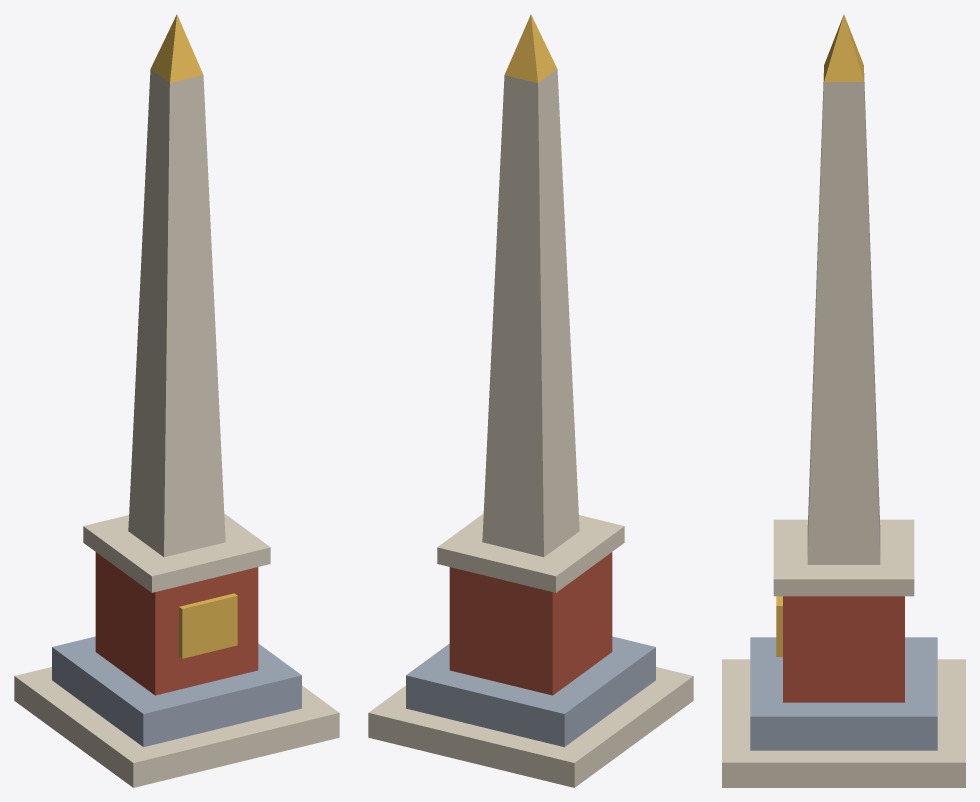
The model's file is prop_obelisk.glb.
The picture shows the model from 3 angles, left to right: view 1: azimuth 30°, elevation 25°; view 2: azimuth 150°, elevation 25°; view 3: azimuth 270°, elevation 25°; orthographic projection. The views are drawn at different scales.
Parts seen in each view (by area): view 1: prop_obelisk; view 2: prop_obelisk; view 3: prop_obelisk.
Part boxes in pixels (left/top/right/bottom): prop_obelisk: left=14, top=14, right=339, bottom=787; prop_obelisk: left=368, top=14, right=693, bottom=787; prop_obelisk: left=722, top=14, right=965, bottom=787.
Size of the model in its own units: 2.6 by 8.5 by 2.6.
1 material, 1 textured.
